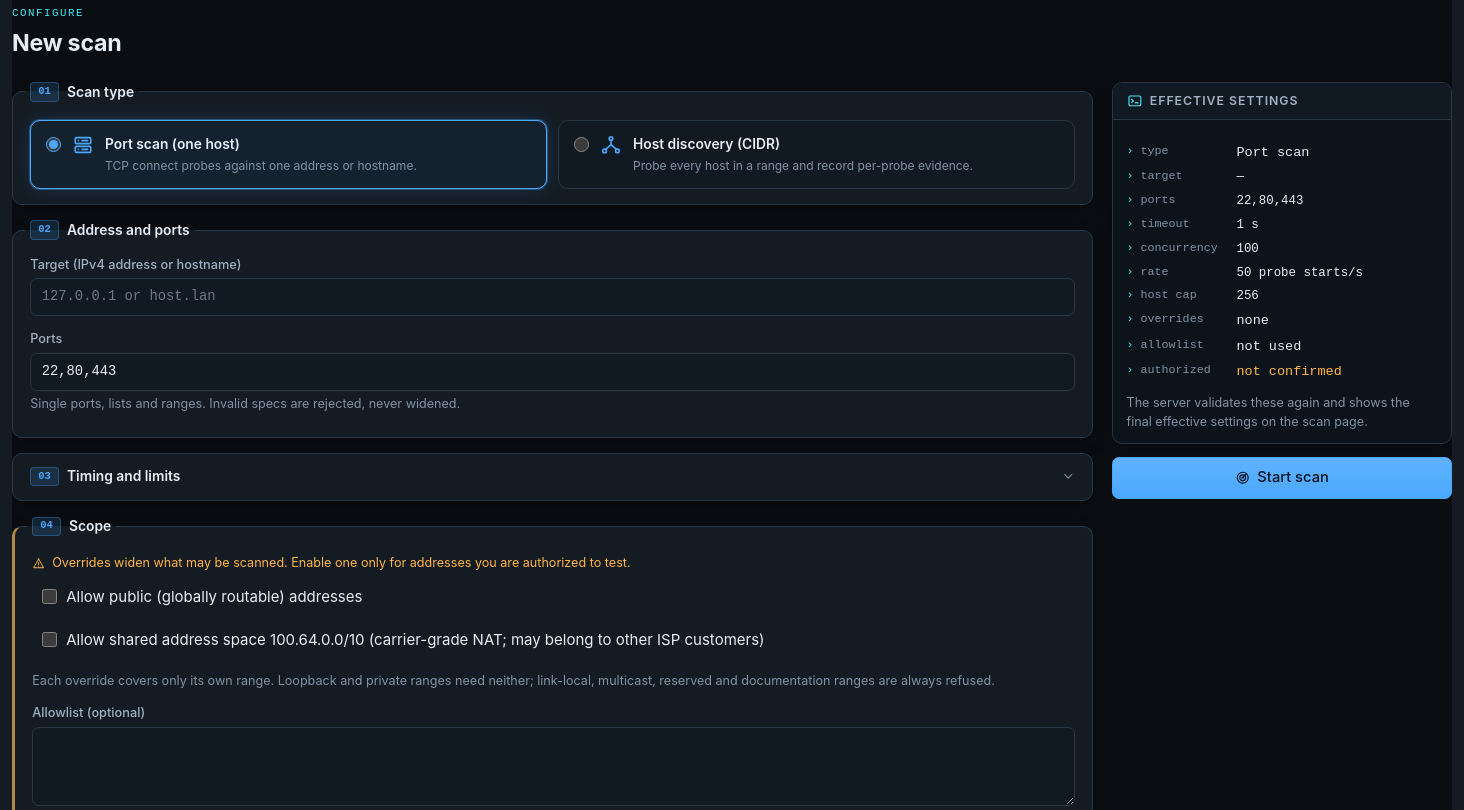
Scenario: New scan form › previews the settings that will be submitted
The width and height of the screenshot is (1464, 810).
Step 1. Type "10.1.2.3" into the field labelled "Target (IPv4 address or hostname)" → (553, 297), box [30, 278, 1075, 316]
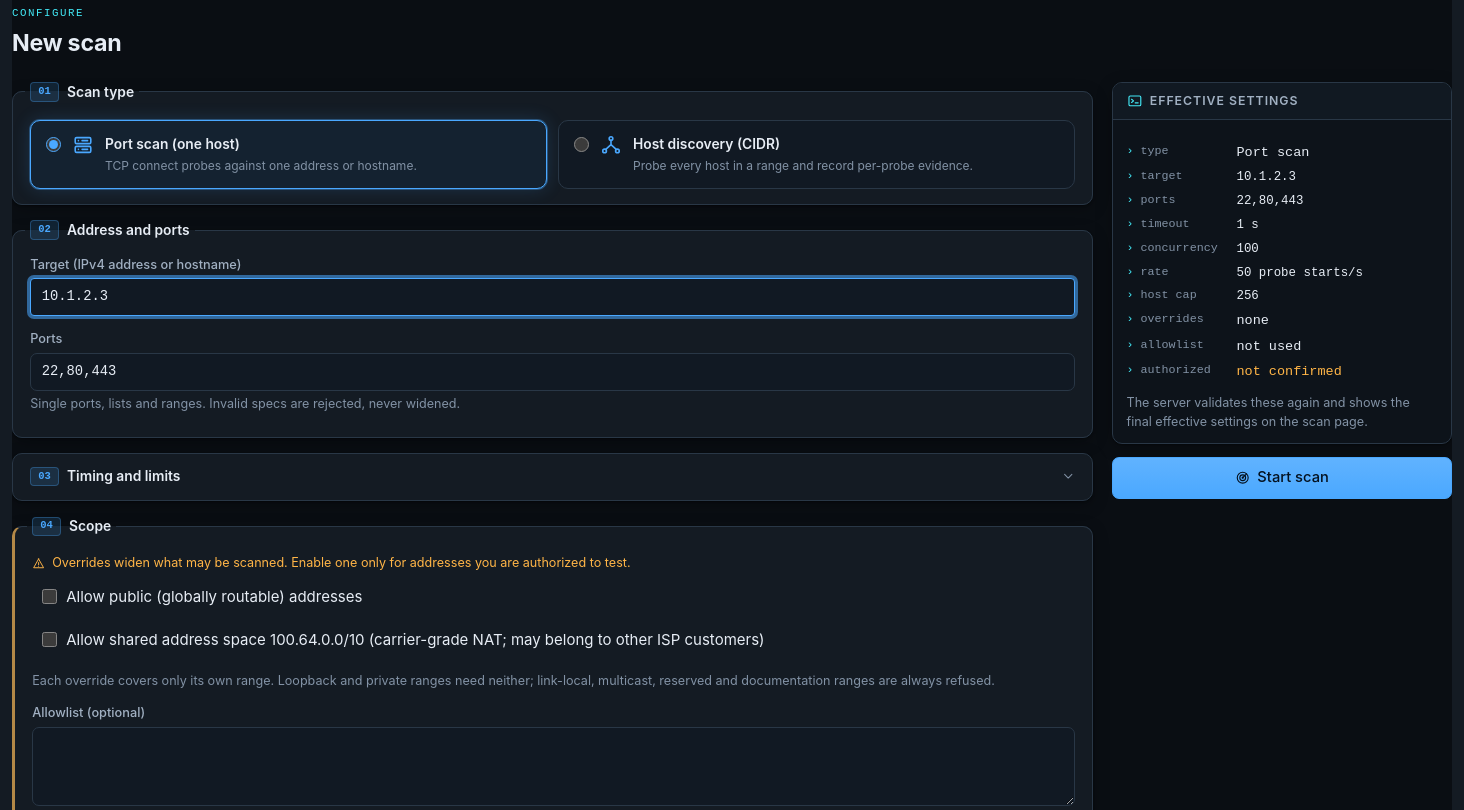
Expected: the heading "Effective settings" is shown, [1150, 92, 1299, 110]
Now the text "10.1.2.3" is shown, box [1236, 170, 1296, 184]
